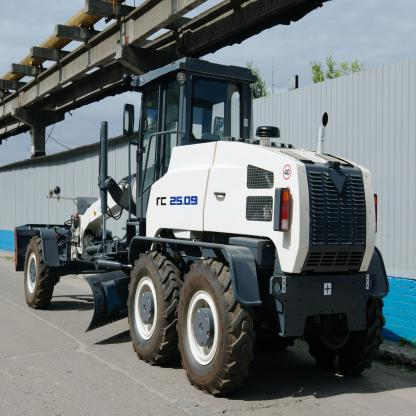bull_dozer/loader/grader: (15, 52, 396, 395)
